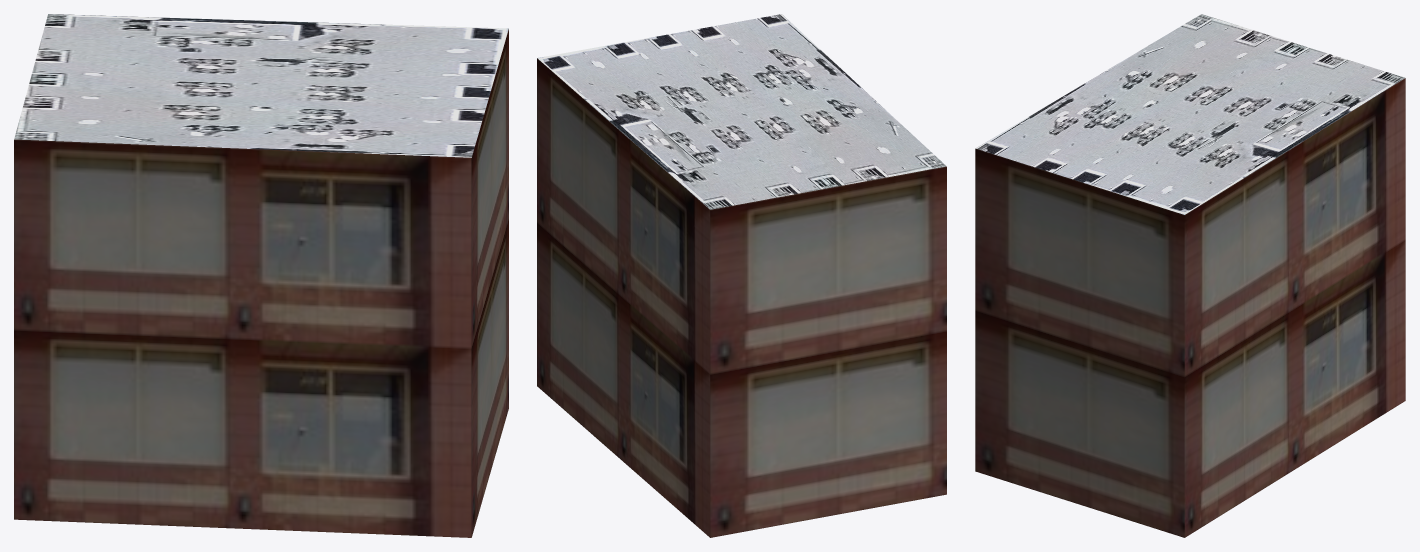
The model's file is ResTex__3913.fbx.
The picture shows the model from 3 angles, left to right: view 1: azimuth 30°, elevation 25°; view 2: azimuth 150°, elevation 25°; view 3: azimuth 270°, elevation 25°; orthographic projection. The views are drawn at different scales.
Visible parts, largest first — view 1: CityEngineMaterial_13_m, CityEngineMaterial_4_m; view 2: CityEngineMaterial_13_m, CityEngineMaterial_4_m; view 3: CityEngineMaterial_13_m, CityEngineMaterial_4_m.
Part boxes in pixels (left/top/right/bottom): CityEngineMaterial_13_m: left=14, top=29, right=508, bottom=537; CityEngineMaterial_4_m: left=14, top=14, right=508, bottom=157; CityEngineMaterial_13_m: left=537, top=58, right=946, bottom=537; CityEngineMaterial_4_m: left=537, top=14, right=946, bottom=209; CityEngineMaterial_13_m: left=975, top=78, right=1405, bottom=537; CityEngineMaterial_4_m: left=975, top=14, right=1404, bottom=214.
Size of the model in its own units: 8.01 by 6 by 7.25.
Materials: 2 (2 with a texture image).
